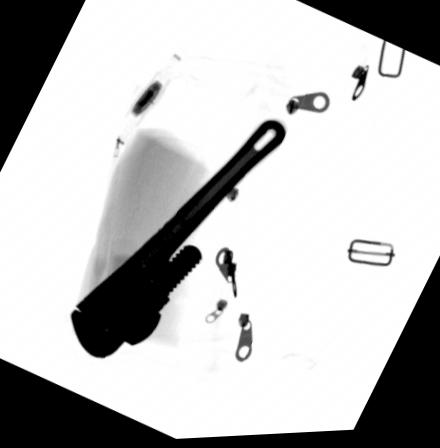Wrench: (68, 121, 287, 361)
